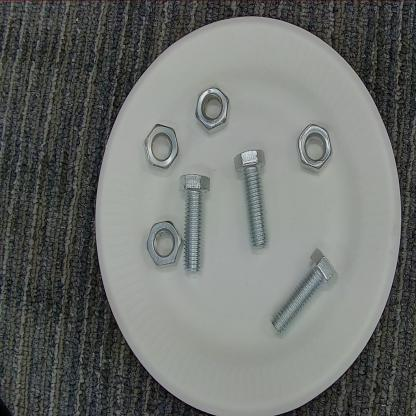FOD: (263, 247, 341, 338), (232, 144, 276, 251), (176, 168, 216, 276), (294, 118, 335, 175), (142, 122, 184, 173), (192, 84, 235, 133), (144, 219, 184, 268)
